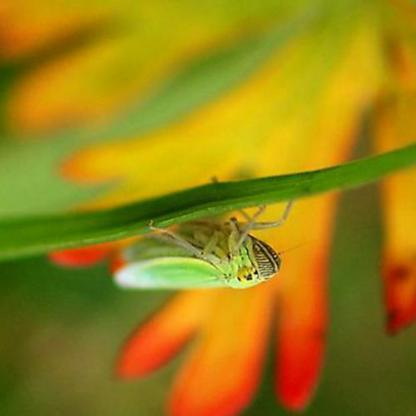green-leafhopper: (115, 211, 284, 290)
